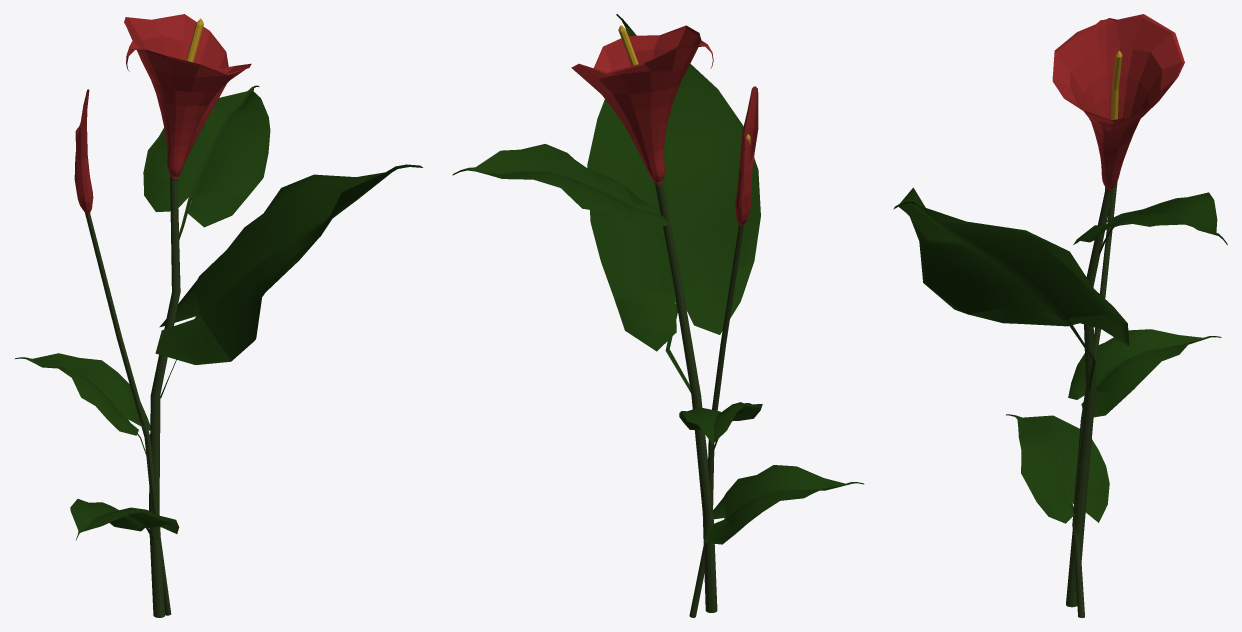
3 renders of one model, left to right at view 1: azimuth 30°, elevation 25°; view 2: azimuth 150°, elevation 25°; view 3: azimuth 270°, elevation 25°, orthographic. The views are drawn at different scales.
Visible parts, largest first — view 1: Leaf_20_GEO, Flower_10_GEO, Leaf_17_GEO, Leaf_5_GEO, polySurface4, Leaf_6_GEO, polySurface3; view 2: Leaf_20_GEO, Flower_10_GEO, Leaf_17_GEO, Leaf_6_GEO, polySurface4, polySurface3, Leaf_5_GEO; view 3: Leaf_20_GEO, Flower_10_GEO, Leaf_6_GEO, Leaf_5_GEO, Leaf_17_GEO, polySurface4.
Part boxes in pixels (<box>): Leaf_20_GEO: <box>155,164,422,398</box>; Flower_10_GEO: <box>124,14,251,617</box>; Leaf_17_GEO: <box>143,85,270,239</box>; Leaf_5_GEO: <box>15,353,152,454</box>; polySurface4: <box>85,213,171,615</box>; Leaf_6_GEO: <box>70,499,179,560</box>; polySurface3: <box>74,89,93,214</box>; Leaf_20_GEO: <box>587,14,760,392</box>; Flower_10_GEO: <box>571,25,717,612</box>; Leaf_17_GEO: <box>452,144,669,246</box>; Leaf_6_GEO: <box>704,465,864,544</box>; polySurface4: <box>689,225,743,617</box>; polySurface3: <box>735,86,758,226</box>; Leaf_5_GEO: <box>679,402,762,453</box>; Leaf_20_GEO: <box>893,187,1129,391</box>; Flower_10_GEO: <box>1052,14,1184,607</box>; Leaf_6_GEO: <box>1006,414,1109,552</box>; Leaf_5_GEO: <box>1068,329,1221,417</box>; Leaf_17_GEO: <box>1073,192,1227,253</box>; polySurface4: <box>1072,181,1117,617</box>.
Size of the model in its own units: 0.2201 by 0.4111 by 0.2091.
